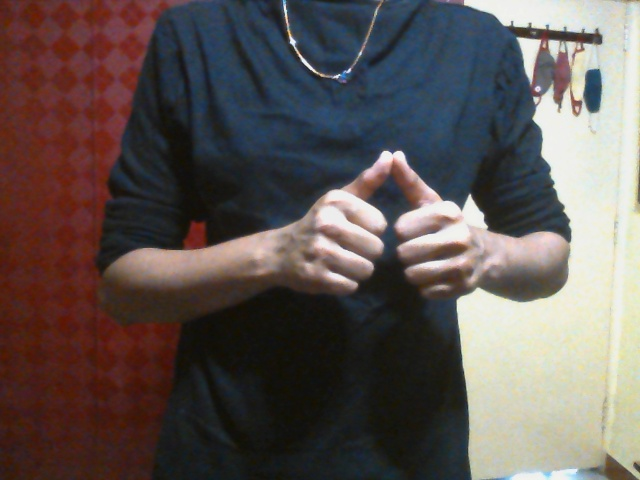A: (287, 147, 481, 299)
